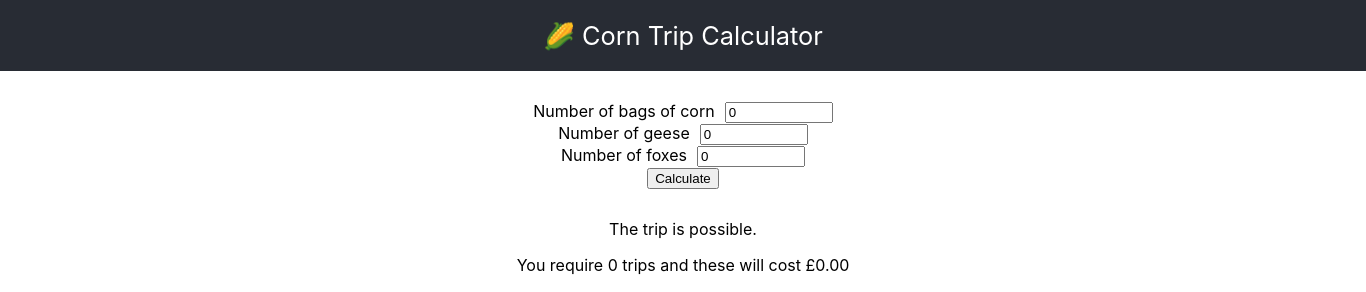
when there 3 geese, and two foxes the trip is not possible
The width and height of the screenshot is (1366, 292).
Replace the text in the number field labelled "Number of geese" with "3" at (754, 134), box [700,124,808,145]
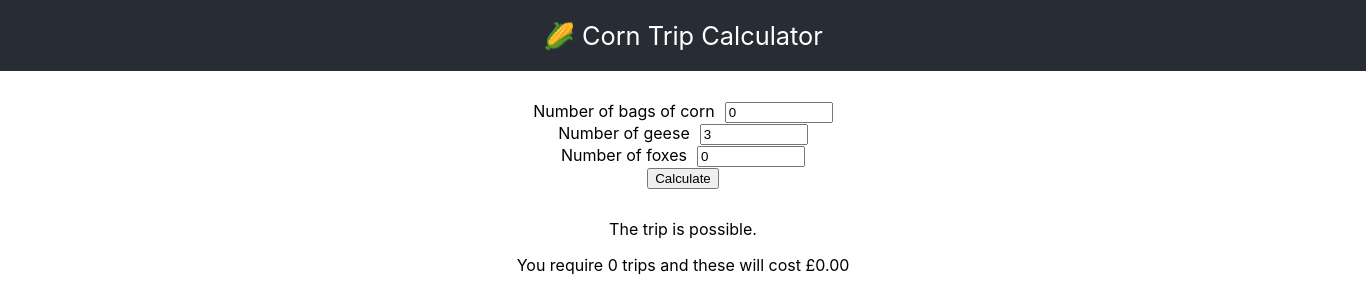
Replace the text in the number field labelled "Number of foxes" with "2" at (751, 156), box [697,146,805,167]
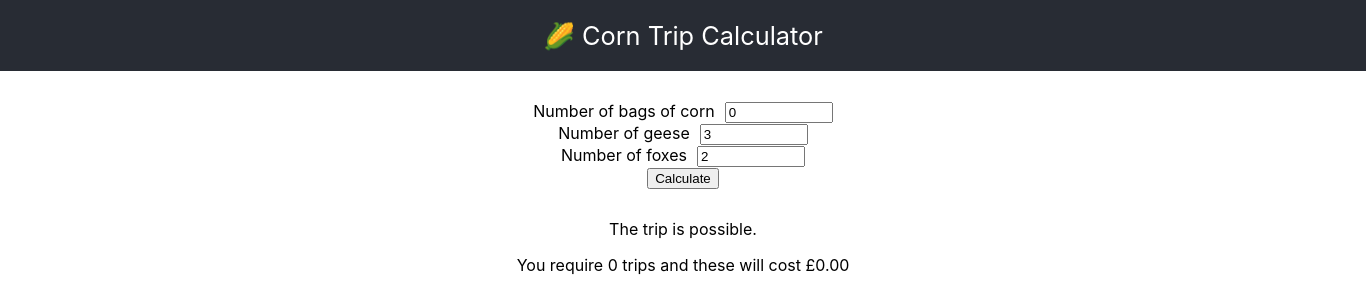
Click the button "Calculate".
click(683, 178)  # box [647,168,719,189]
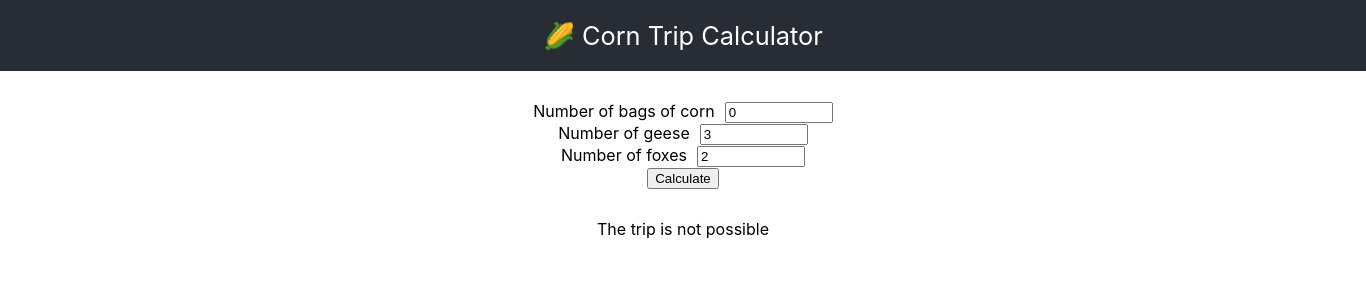
Check: the text "The trip is not possible" is shown, box [597,219,769,239]
